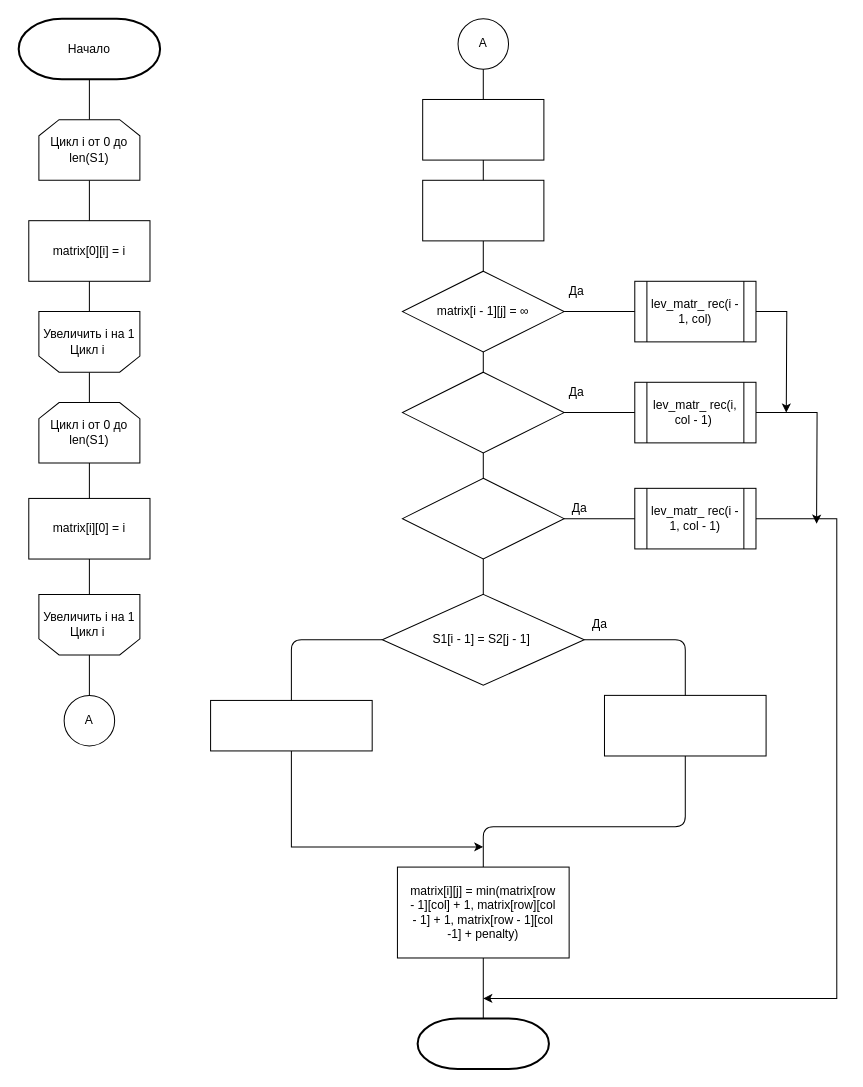
The diagram is 863 pixels wide and 1087 high, and some of its shapes have lost their labels. The centre of each missing label's shape, as x and y in pixels:
additional = 0: point 684,725
additional = 1: point 291,725
i = len(S1): point 483,129
j = len(S2): point 483,210
matrix[i - 1][j - 1] = ∞: point 482,518
matrix[i][j - 1] = ∞: point 482,412
Конец: point 482,1043
